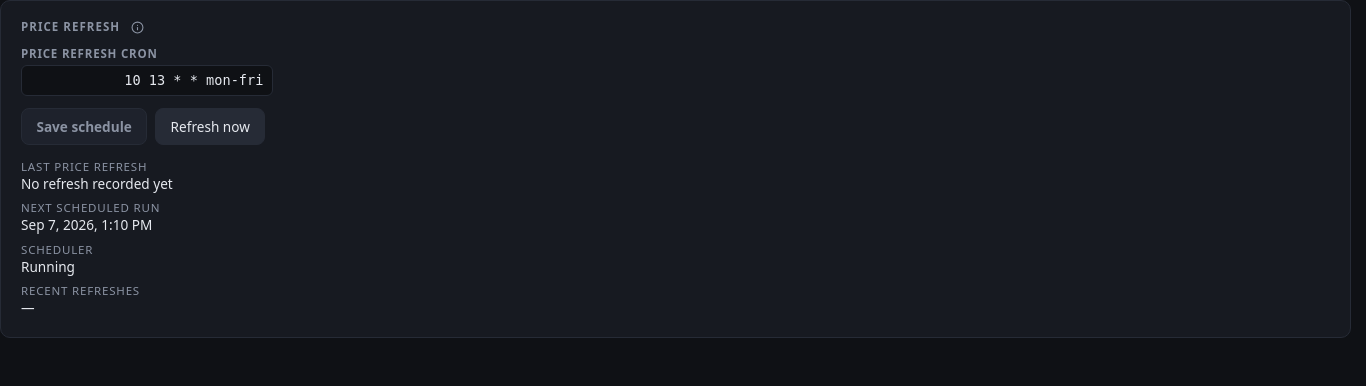
PriceRefreshCard › runs a refresh, reports what it did and re-reads the facts
Expected: the text "Next scheduled run" is shown, [21,200,160,215]
Click the button "Refresh now": (210, 126) [155,108,265,145]
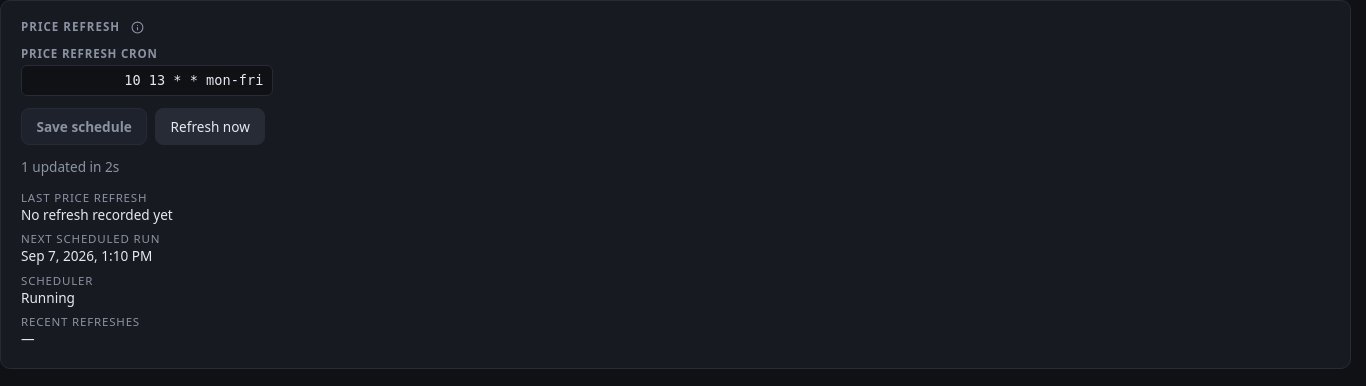
Result: the text "1 updated in 2s" is shown at [21,157,119,176]
